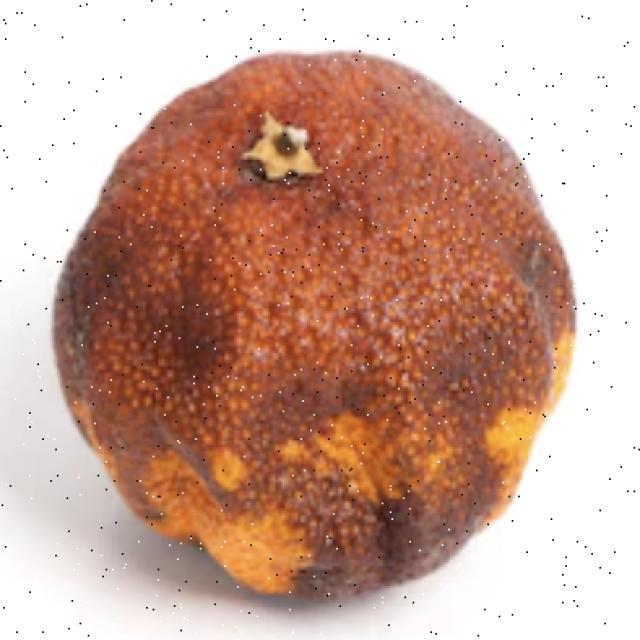sangat-busuk: (56, 54, 574, 595)
